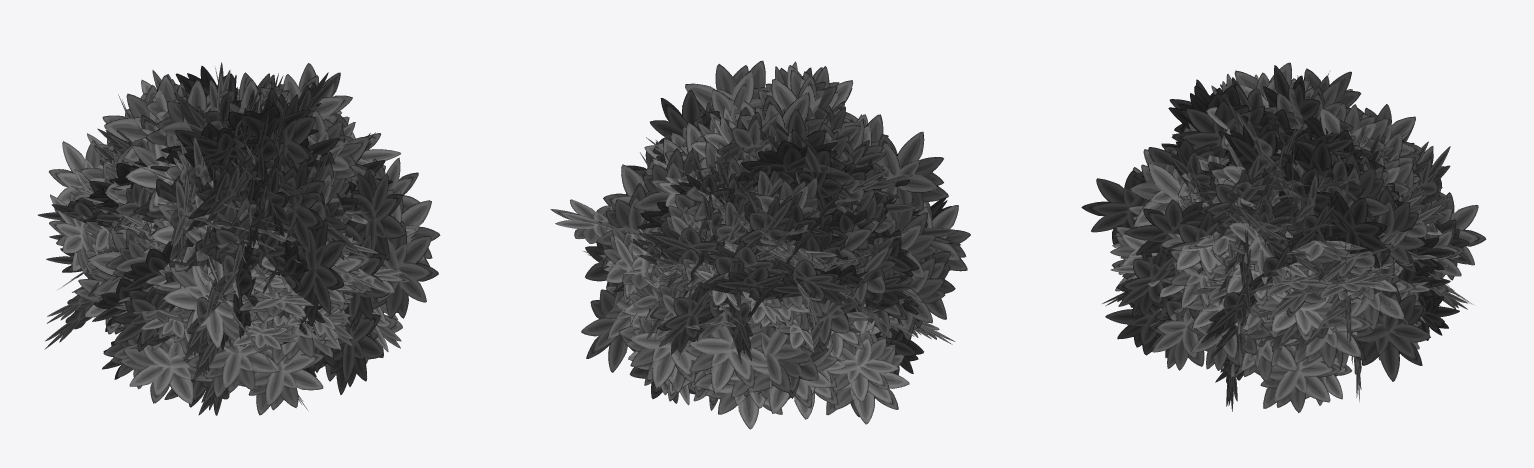
Rendered from bush.fbx.
3 views of the same model, side by side, from view 1: azimuth 30°, elevation 25°; view 2: azimuth 150°, elevation 25°; view 3: azimuth 270°, elevation 25° (orthographic). The views are drawn at different scales.
Visible parts, largest first — view 1: bladlos.004; view 2: bladlos.004; view 3: bladlos.004.
Boxes of the visible parts, x1=… form: bladlos.004: x1=38, y1=62, x2=440, y2=415; bladlos.004: x1=550, y1=60, x2=970, y2=429; bladlos.004: x1=1081, y1=62, x2=1486, y2=412.
Bounding box in the file's own units: 3.11 × 2.79 × 3.35.
